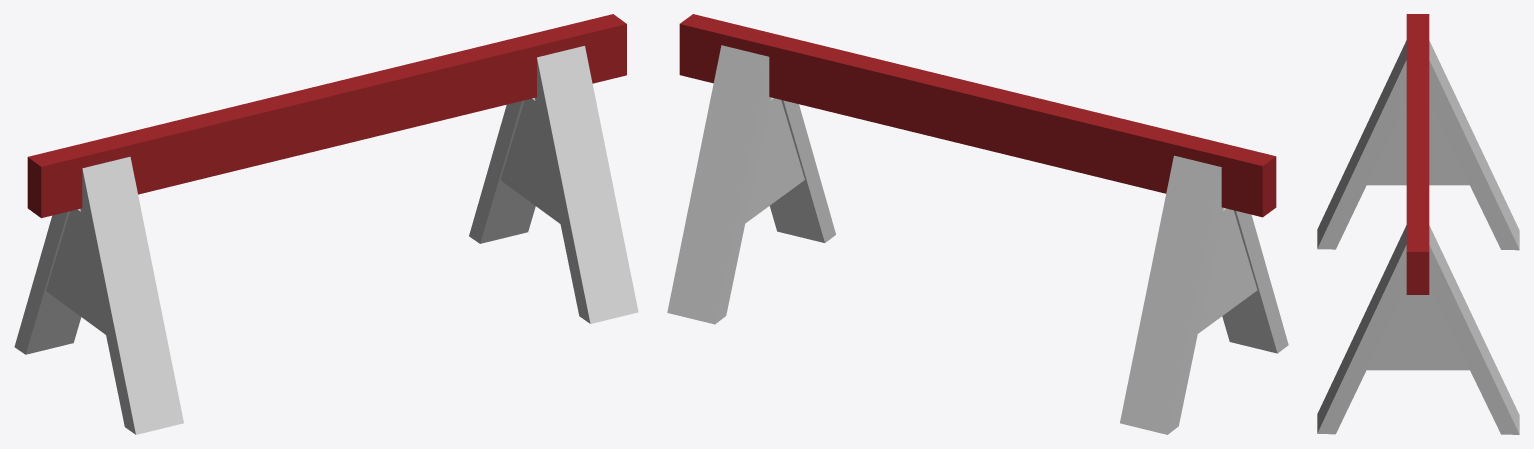
File: Hurddel.fbx
The picture shows the model from 3 angles, left to right: view 1: azimuth 30°, elevation 25°; view 2: azimuth 150°, elevation 25°; view 3: azimuth 270°, elevation 25°; orthographic projection. The views are drawn at different scales.
Parts seen in each view (by area): view 1: Hurddel; view 2: Hurddel; view 3: Hurddel.
Boxes of the visible parts, box(x1,y1,x2,y2) form: Hurddel: box(14, 14, 638, 434); Hurddel: box(667, 14, 1288, 434); Hurddel: box(1317, 14, 1519, 434).
Bounding box in the file's own units: 1001 × 392 × 360.
